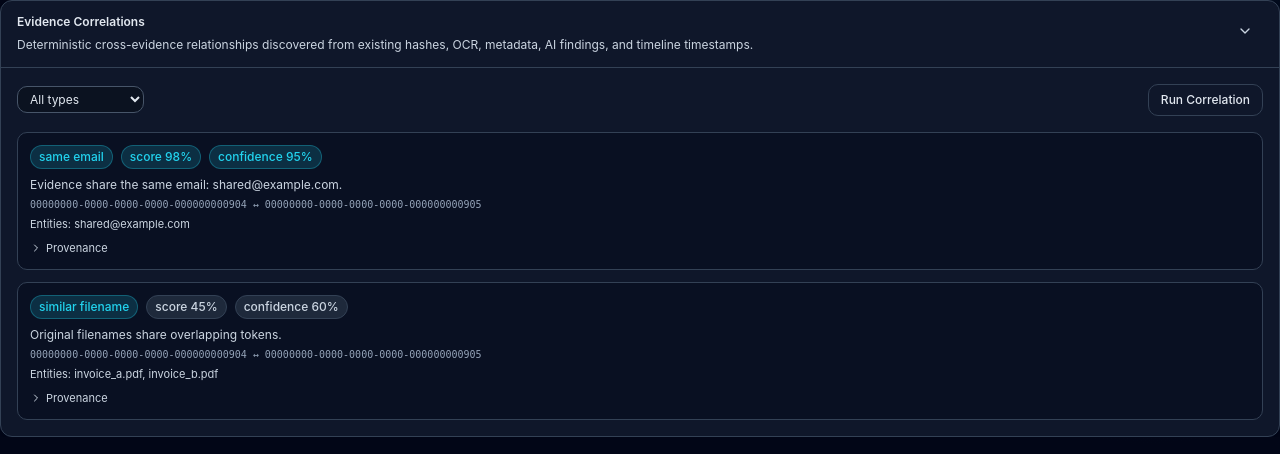
Test: Phase 7B EvidenceCorrelationPanel › filters by correlation type
Expected: the text "Evidence share the same email: shared@example.com." is shown, [30,176,342,192]
Select "similar filename" in the dropdown named "Filter correlation type" at [80, 100], box [17,86,144,113]
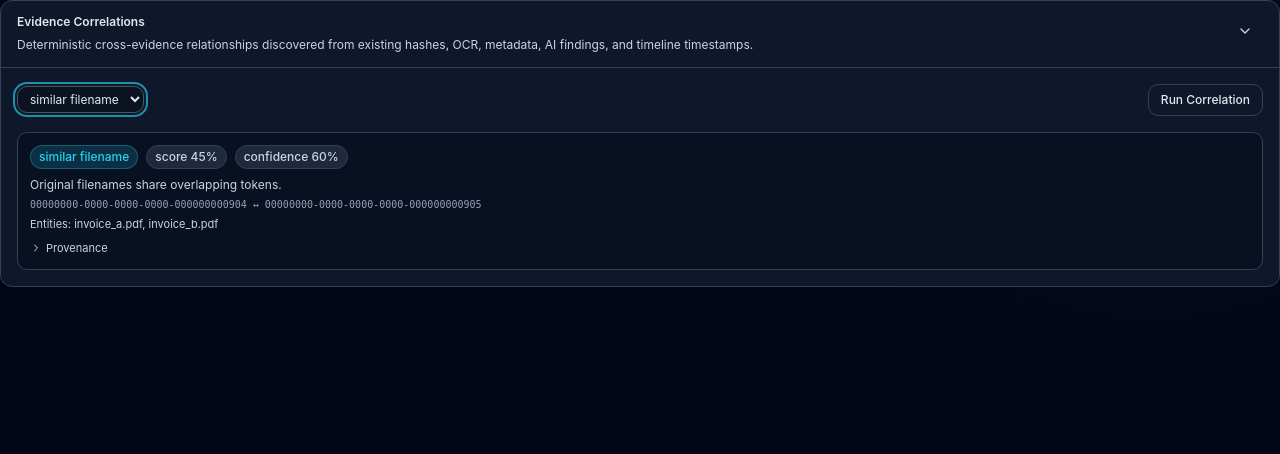
Expected: the text "Original filenames share overlapping tokens." is shown, [30,176,282,192]
Expected: the text "Evidence share the same email" is gone
